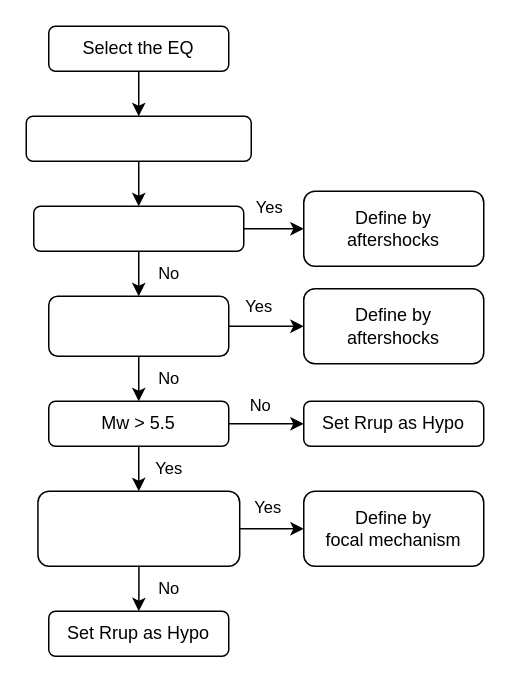
Some shapes in this 510 by 683 pixel diagram are drawn without their labels. The shapes that lost their labels are listed below. From the top down, each one's box as (x1, y1, x2, y2) in pixels, then its label:
(25, 115, 251, 161): Establish the 3D model
(32, 205, 244, 251): Distance ratio > 1.05
(47, 295, 229, 356): Can be identified by eyes
(36, 490, 240, 566): Can be identified by focal mechanism map
